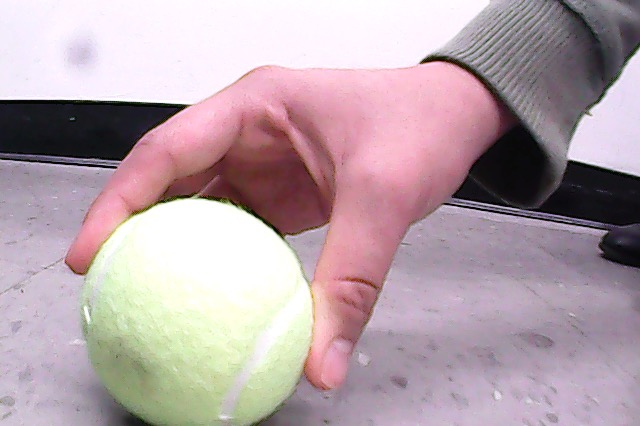ball: (81, 198, 314, 426)
